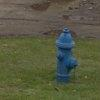Hydrant: (43, 18, 84, 83)
